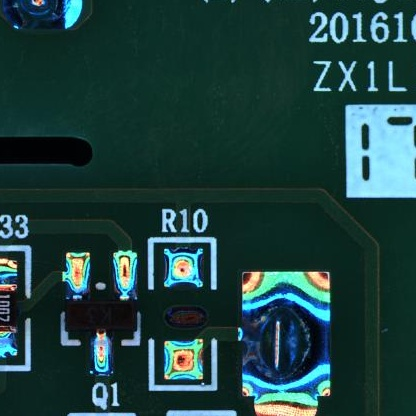spot: (240, 269, 333, 400)
